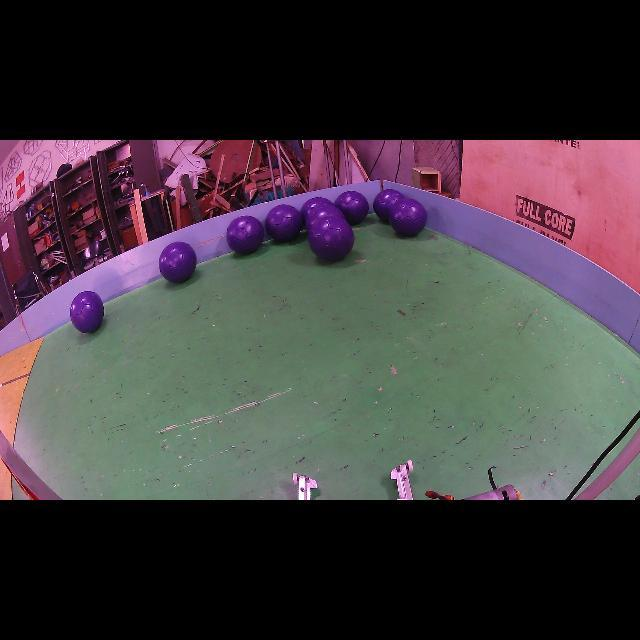P: (308, 216, 354, 260), (159, 241, 196, 282), (226, 216, 264, 254), (389, 199, 428, 236), (70, 291, 104, 332), (265, 204, 302, 241), (334, 191, 369, 225), (306, 205, 345, 231), (372, 189, 404, 220), (300, 198, 332, 224)
